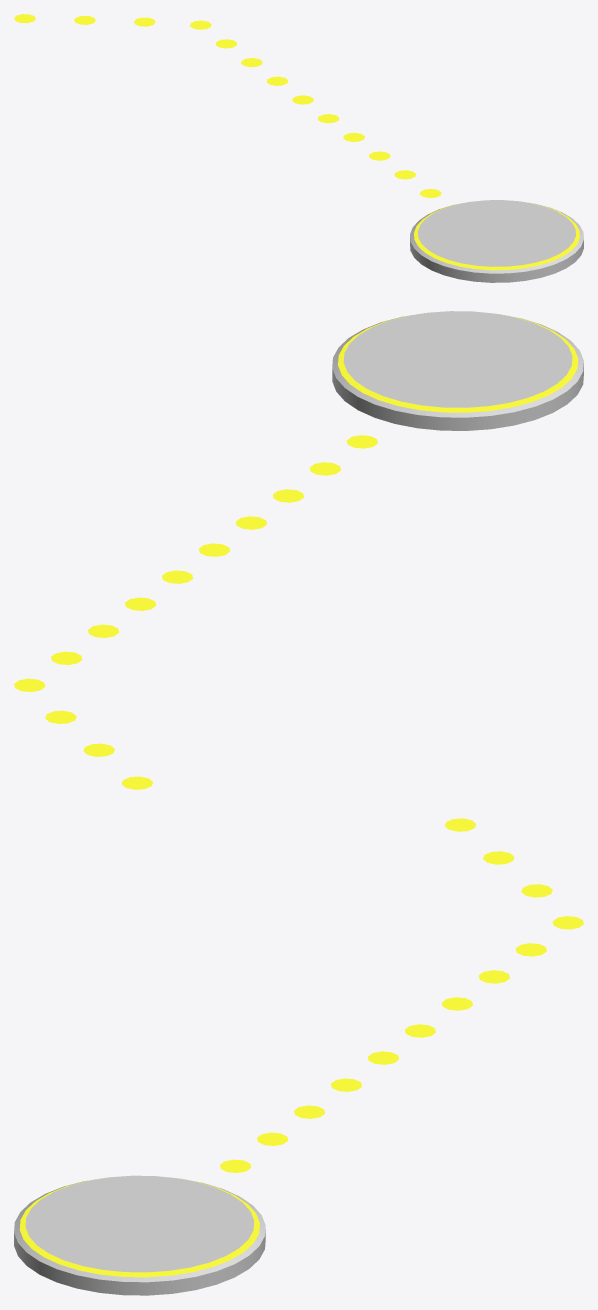
File: SciFi_rightbutton.glb
The picture shows the model from 3 angles, top to bottom: view 1: azimuth 30°, elevation 25°; view 2: azimuth 150°, elevation 25°; view 3: azimuth 330°, elevation 25°; orthographic projection. The views are drawn at different scales.
Visible parts, largest first — view 1: Cylinder, Cylinder.002, Cylinder.006; view 2: Cylinder, Cylinder.002, Cylinder.006; view 3: Cylinder, Cylinder.002, Cylinder.006.
Boxes of the visible parts, left/top/right/bottom form: Cylinder: left=410, top=200, right=583, bottom=282; Cylinder.002: left=190, top=20, right=441, bottom=198; Cylinder.006: left=14, top=14, right=155, bottom=26; Cylinder: left=332, top=311, right=583, bottom=430; Cylinder.002: left=14, top=435, right=377, bottom=691; Cylinder.006: left=45, top=710, right=153, bottom=789; Cylinder: left=14, top=1175, right=265, bottom=1295; Cylinder.002: left=220, top=916, right=583, bottom=1172; Cylinder.006: left=445, top=818, right=552, bottom=897.
Size of the model in its own units: 1.11 by 0.0641 by 3.63.
